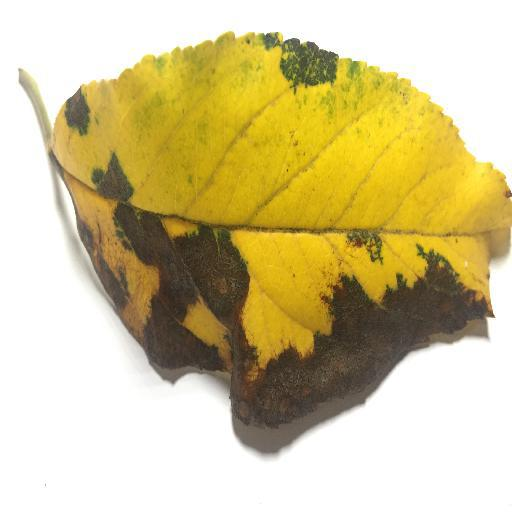Brown_Spot: (85, 203, 489, 458), (245, 28, 353, 96), (89, 145, 141, 195), (55, 82, 100, 139)
